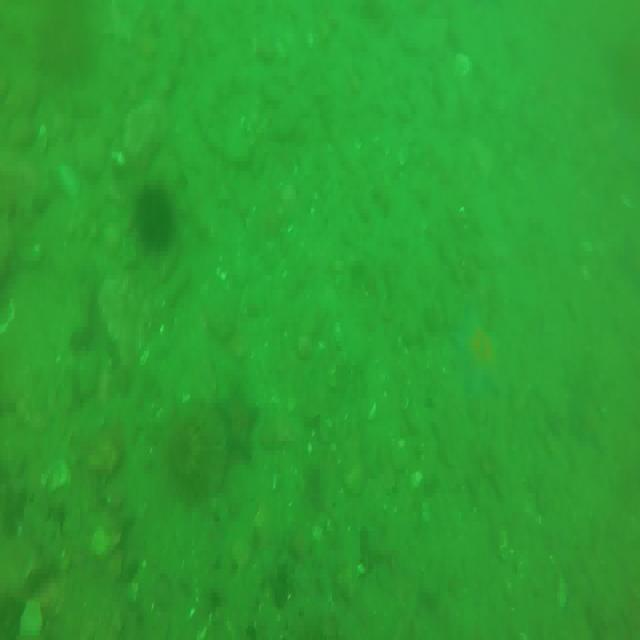echinus: (161, 404, 206, 501), (44, 5, 100, 78), (134, 183, 183, 248)
starfish: (215, 384, 261, 467)
